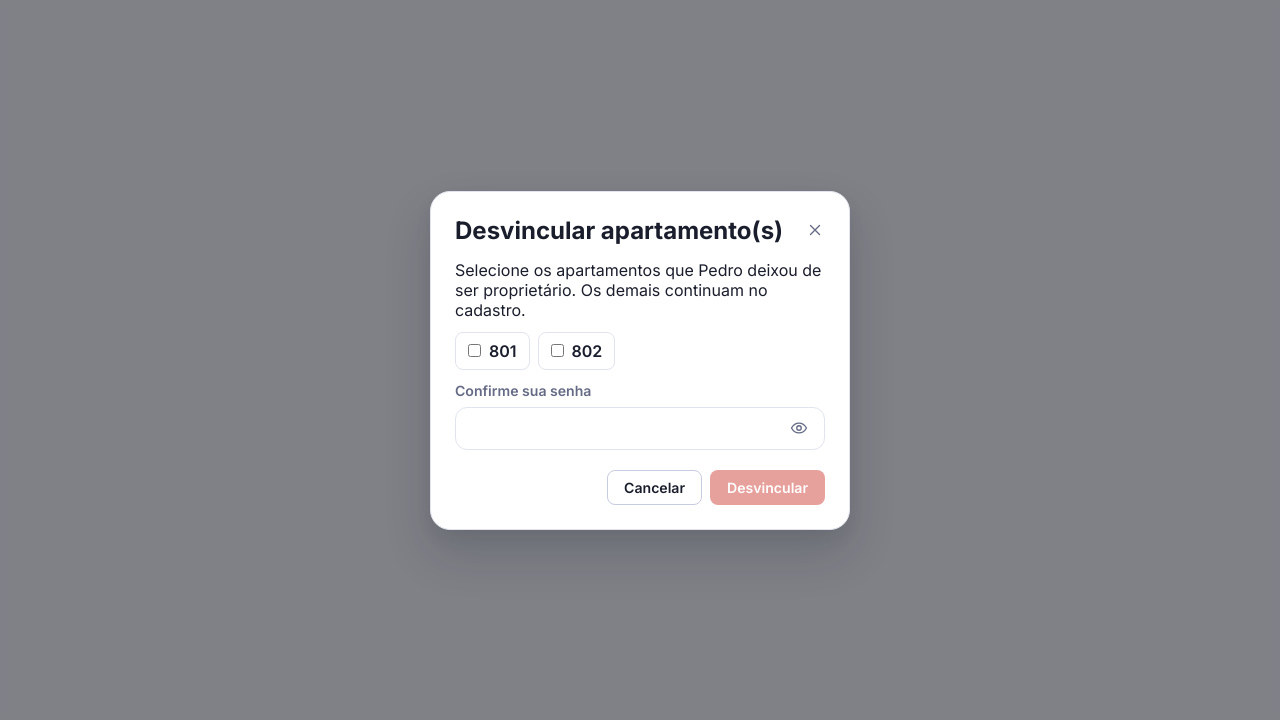
Scenario: UnlinkUnitsModal › warns when a released apartment keeps its tenants and is left without an owner
Step 1. Click the checkbox labelled "802" → point(557, 350), box x1=551 y1=344 x2=564 y2=357
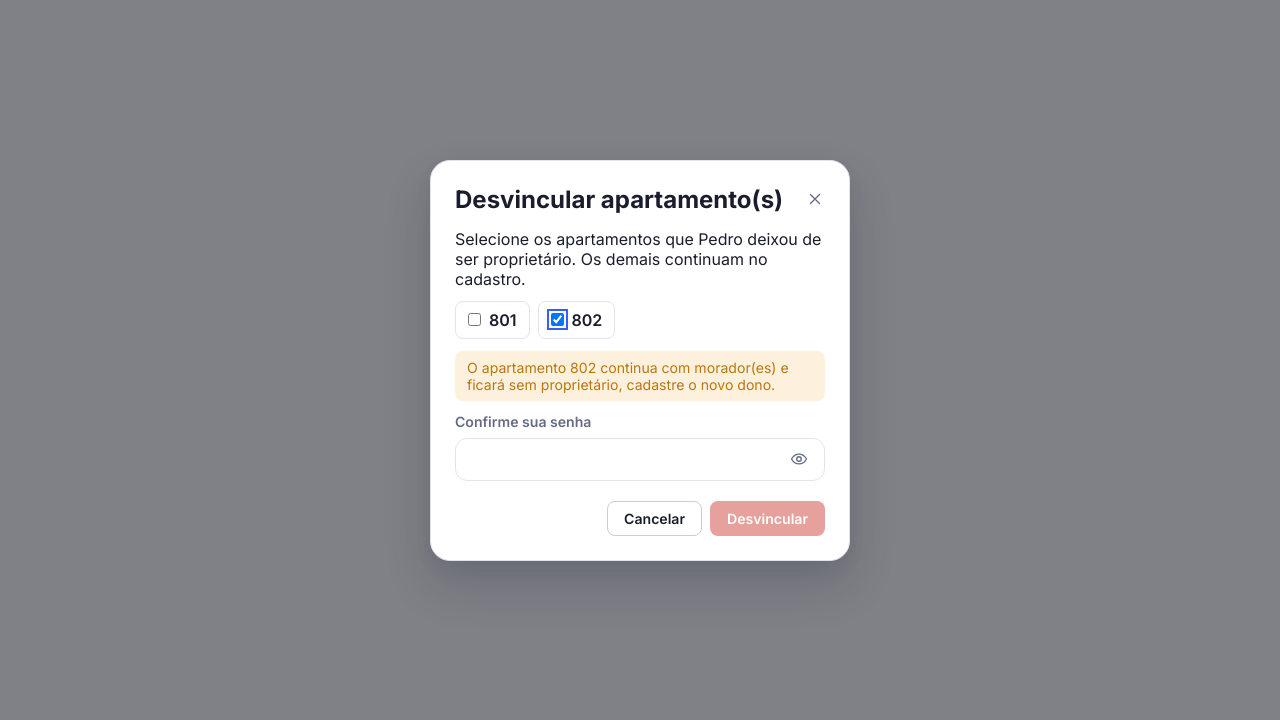
Expected: the text "802 continua com morador(es)" is shown, x1=467 y1=358 x2=789 y2=392
